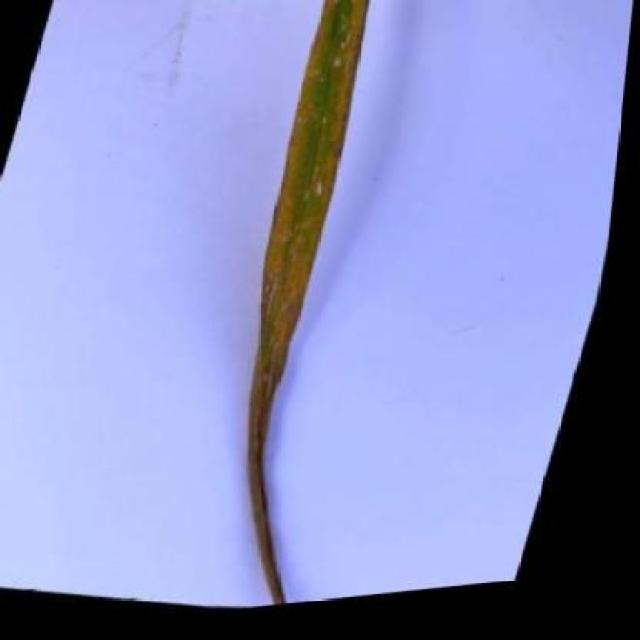Rice False Smut: (158, 0, 484, 623)
